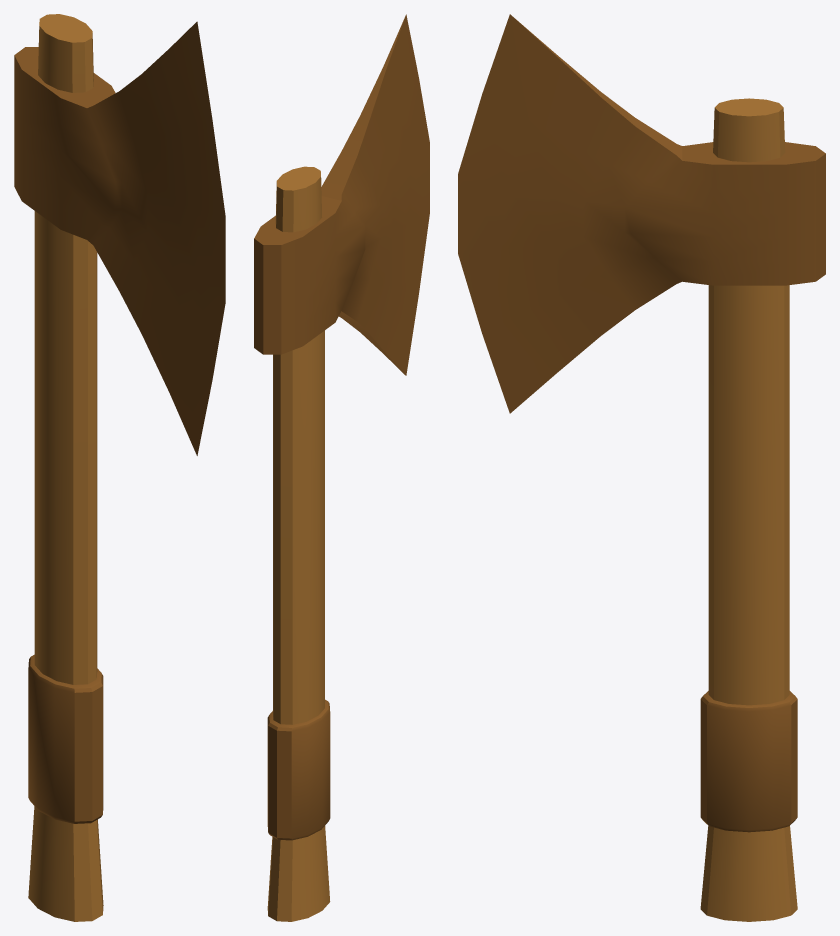
File: BaltaLevel1.fbx
3 renders of one model, left to right at view 1: azimuth 30°, elevation 25°; view 2: azimuth 150°, elevation 25°; view 3: azimuth 270°, elevation 25°, orthographic. The views are drawn at different scales.
Parts seen in each view (by area): view 1: BaltaLevel1; view 2: BaltaLevel1; view 3: BaltaLevel1.
Part boxes in pixels (<box>): BaltaLevel1: <box>14,14,225,921</box>; BaltaLevel1: <box>254,14,429,921</box>; BaltaLevel1: <box>458,14,825,921</box>.
Bounding box in the file's own units: 11.98 × 199 × 73.94.
